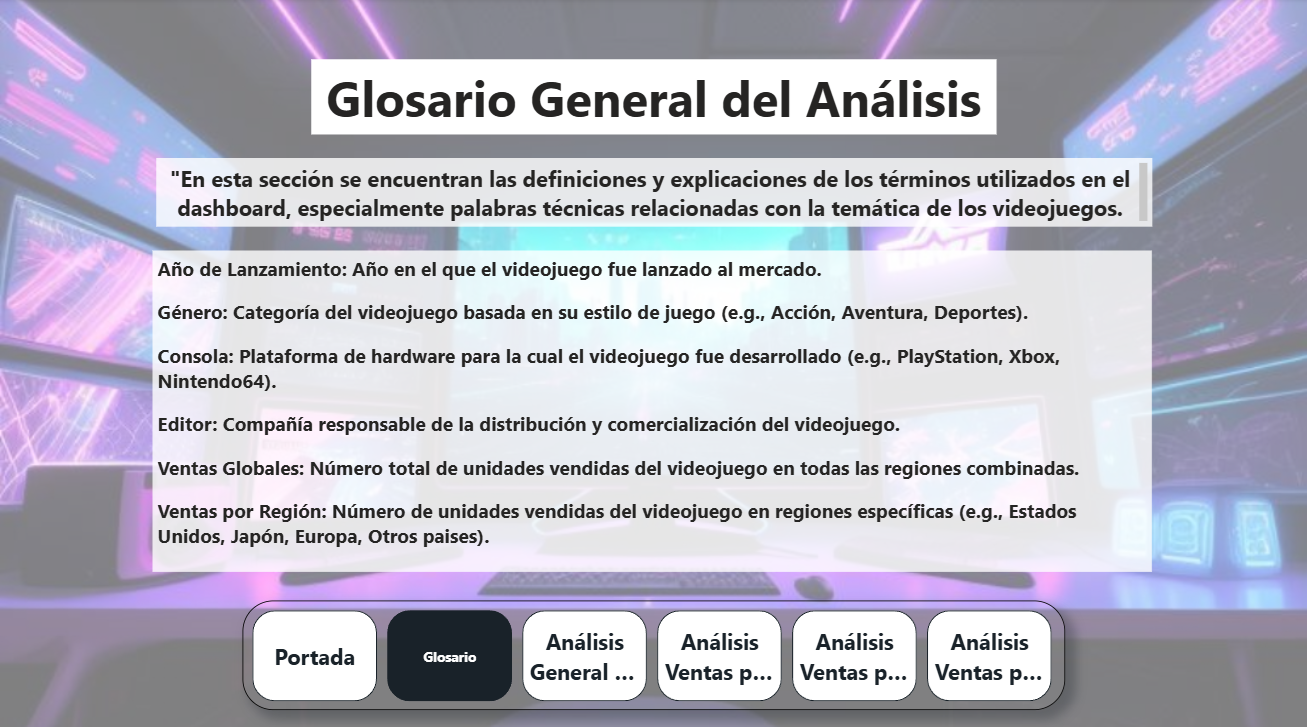

What the dashboard file says about the page in this screenshot:
{"tool":"powerbi","page":{"name":"Glosario ","canvas":[1280,720],"ordinal":1},"visuals":[{"type":"pageNavigator","box":[236.9,589.6,804.6,107.5],"z":0},{"type":"textbox","box":[304,60.5,670.2,73.9],"z":1000},{"type":"textbox","box":[152.9,156.2,974.3,67.2],"z":2000},{"type":"textbox","box":[149.5,246.9,977.6,314.1],"z":3000}]}

Visuals, with their boxes in screenshot pixels (x1, y1, x2, y2), scaled from the page's 1280x720 canvas onto the 1307x727 screenshot:
pageNavigator: x1=242, y1=595, x2=1063, y2=704
textbox: x1=310, y1=61, x2=995, y2=136
textbox: x1=156, y1=158, x2=1151, y2=226
textbox: x1=153, y1=249, x2=1151, y2=566
